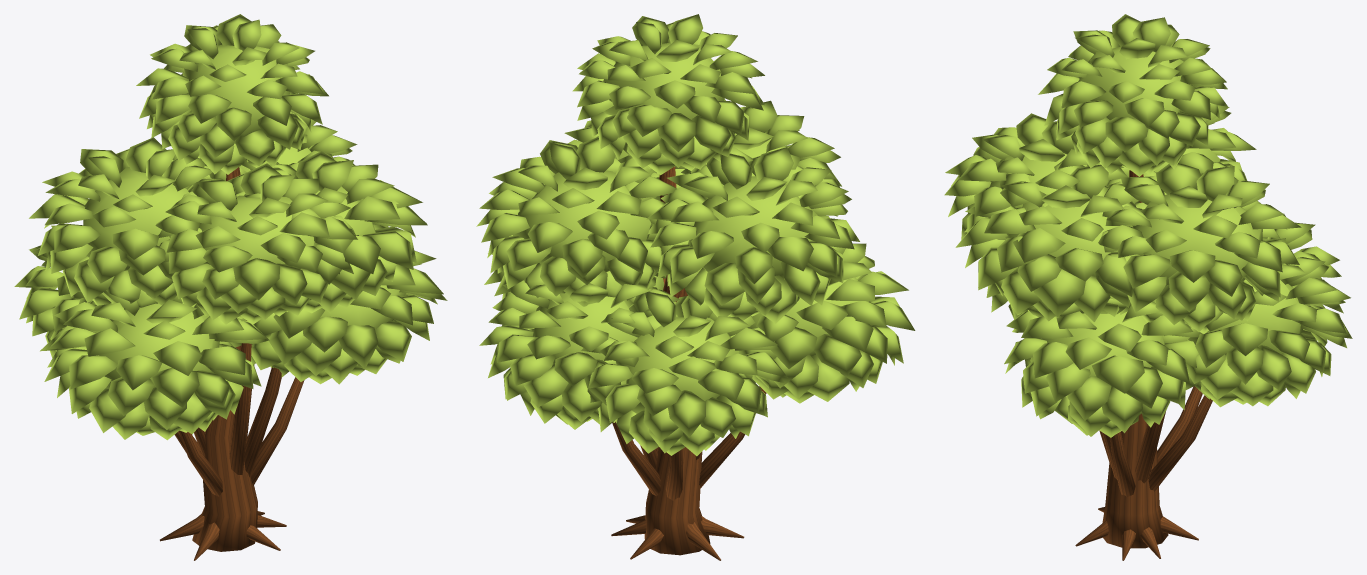
The model's file is YoungOak.fbx.
3 renders of one model, left to right at view 1: azimuth 30°, elevation 25°; view 2: azimuth 150°, elevation 25°; view 3: azimuth 270°, elevation 25°, orthographic.
Parts seen in each view (by area): view 1: SM_YoungOak_Foliage_LOD0, SM_YoungOak_Bark_LOD0; view 2: SM_YoungOak_Foliage_LOD0, SM_YoungOak_Bark_LOD0; view 3: SM_YoungOak_Foliage_LOD0, SM_YoungOak_Bark_LOD0.
Part boxes in pixels (<box>): SM_YoungOak_Foliage_LOD0: <box>14,14,447,440</box>; SM_YoungOak_Bark_LOD0: <box>160,167,304,560</box>; SM_YoungOak_Foliage_LOD0: <box>476,14,915,456</box>; SM_YoungOak_Bark_LOD0: <box>611,166,766,560</box>; SM_YoungOak_Foliage_LOD0: <box>944,14,1352,437</box>; SM_YoungOak_Bark_LOD0: <box>1075,170,1212,560</box>.
Size of what is drawn, in the model's own units: 4.64 by 5.79 by 4.2.
Materials: 2 (1 with a texture image).
